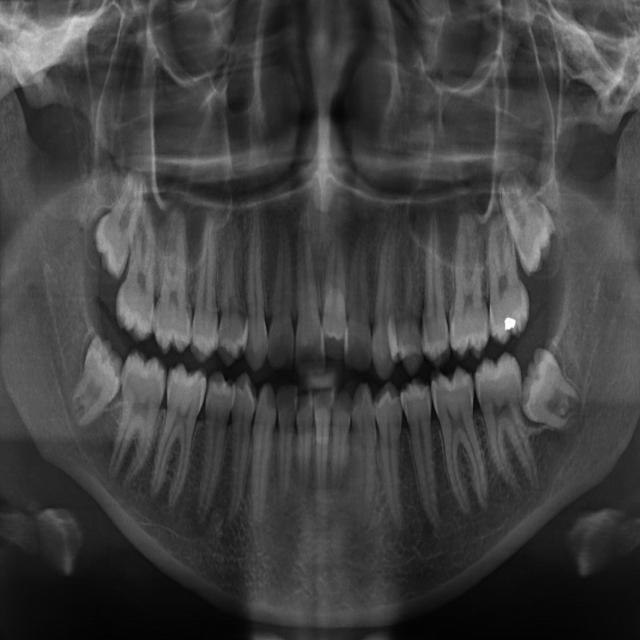3M ESPE Implant: (82, 161, 152, 283)
AGS Medikal Implant: (469, 349, 544, 509)
AMerOss Implant: (427, 362, 493, 524)
Amalgam filling: (143, 235, 146, 253)
Anthogyr Implant: (399, 374, 451, 540)
Bicon Implant: (372, 380, 415, 538)
BioHorizons Implant: (350, 382, 377, 531)
BioLife Implant: (324, 386, 353, 499)
Biomet 3i Implant: (313, 386, 334, 507)
Blue Sky Bio Implant: (296, 387, 312, 507)
Camlog Implant: (276, 381, 298, 509)
Caries: (346, 214, 376, 376)
Composite filling: (242, 379, 280, 555)
Cowellmedi Implant: (220, 370, 259, 526)
Crown: (191, 369, 235, 531)
DENTSPLY Implant: (152, 207, 200, 358)
Dentatus Implant: (147, 360, 209, 513)
Dentis Implant: (104, 344, 171, 495)
Dentium Implant: (62, 333, 135, 437)
Euroteknika Implant: (188, 212, 231, 365)
Filling: (218, 214, 246, 368)
Frontier Implant: (244, 195, 270, 372)
Hiossen Implant: (371, 204, 400, 381)
Implant: (295, 206, 326, 380)
Implant Direct: (267, 214, 296, 373)
Keystone Dental Implant: (321, 220, 347, 366)
MIS Implant: (393, 216, 425, 377)
Mandible: (412, 206, 452, 372)
Maxilla: (444, 208, 491, 361)
Megagen Implant: (483, 212, 533, 349)
Neodent Implant: (492, 157, 570, 279)
Neoss Implant: (569, 410, 570, 411)
